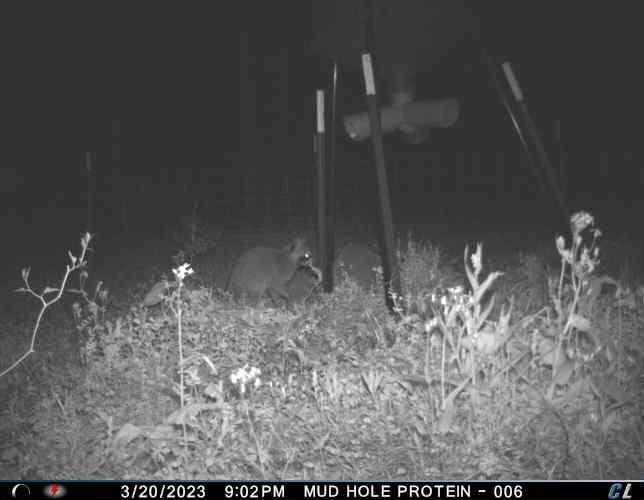Raccoon: (216, 233, 316, 306)
